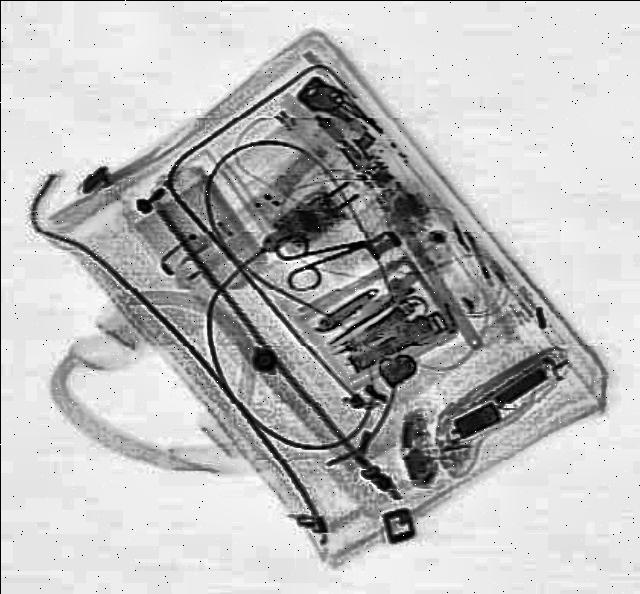Scissors: (266, 217, 374, 296)
